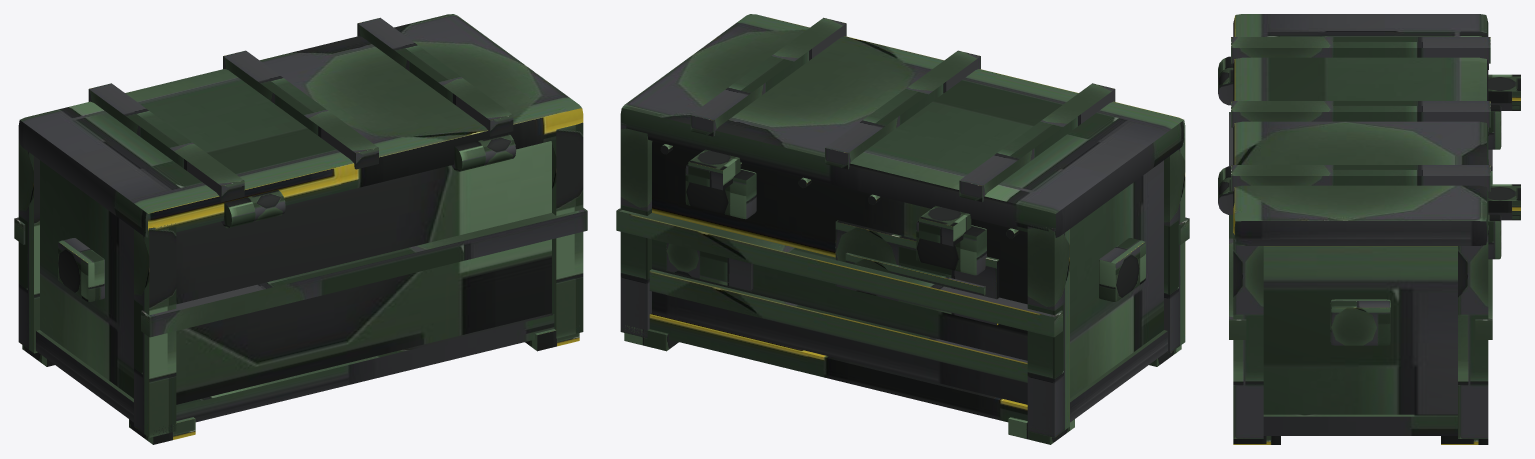
File: PR_supply_crate.glb
3 views of the same model, side by side, from view 1: azimuth 30°, elevation 25°; view 2: azimuth 150°, elevation 25°; view 3: azimuth 270°, elevation 25° (orthographic). The views are drawn at different scales.
Visible parts, largest first — view 1: PR_supply_crate; view 2: PR_supply_crate; view 3: PR_supply_crate.
Part boxes in pixels (x1,y1,x2,y2): PR_supply_crate: (14,14,587,444); PR_supply_crate: (616,14,1189,444); PR_supply_crate: (1218,14,1520,444).
Size of the model in its own units: 1.19 by 0.605 by 0.7.
Materials: 1 (1 with a texture image).
